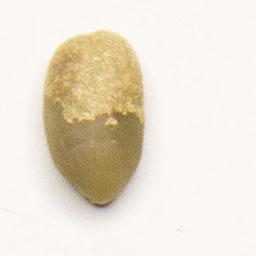longberry: (38, 27, 149, 212)
